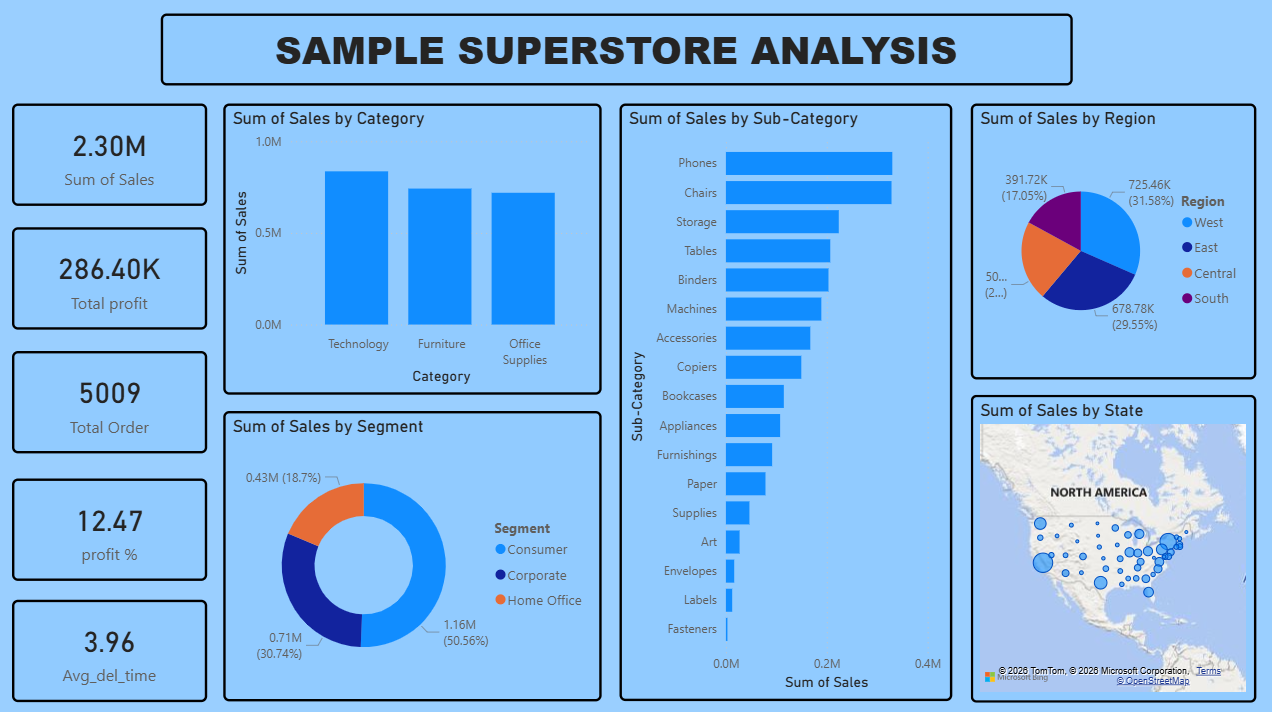

This screenshot's page, from the dashboard's own definition file:
{"tool":"powerbi","page":{"name":"Summary Page","canvas":[1280,720],"ordinal":0},"visuals":[{"type":"card","fields":{"Values":["Sum(Orders.Sales)"]},"box":[14.5,107.4,195.4,102.5],"z":0},{"type":"card","fields":{"Values":["Orders.Total_order"]},"box":[14.5,354.7,195.4,102.5],"z":1000},{"type":"card","fields":{"Values":["Orders.Total profit"]},"box":[14.5,231.6,195.4,102.5],"z":2000},{"type":"card","fields":{"Values":["Orders.profit %"]},"box":[14.5,482.6,195.4,102.5],"z":3000},{"type":"card","fields":{"Values":["Orders.Avg_del_time"]},"box":[14.5,603.2,195.4,102.5],"z":4000},{"type":"columnChart","fields":{"Y":["Sum(Orders.Sales)"],"Category":["Orders.Category"]},"box":[226.2,107.5,378.8,291.2],"z":5000},{"type":"clusteredBarChart","fields":{"Category":["Orders.Sub-Category"],"Y":["Sum(Orders.Sales)"]},"box":[622.5,107.5,332.5,597.5],"z":6000},{"type":"pieChart","fields":{"Y":["Sum(Orders.Sales)"],"Category":["Orders.Region"]},"box":[973.6,107.4,285.9,276.3],"z":7000},{"type":"donutChart","fields":{"Y":["Sum(Orders.Sales)"],"Category":["Orders.Segment"]},"box":[226.2,415,378.8,290],"z":8000},{"type":"textbox","box":[164.1,18.1,912.1,72.4],"z":9000},{"type":"map","fields":{"Size":["Sum(Orders.Sales)"],"Category":["Orders.State"]},"box":[973.6,398.1,285.9,307.6],"z":10000}]}

Visuals, with their boxes in screenshot pixels (x1, y1, x2, y2), scaled from the page's 1280x720 canvas onto the 1272x712 screenshot:
card - Sum(Orders.Sales): (x1=14, y1=106, x2=209, y2=208)
card - Orders.Total_order: (x1=14, y1=351, x2=209, y2=452)
card - Orders.Total profit: (x1=14, y1=229, x2=209, y2=330)
card - Orders.profit %: (x1=14, y1=477, x2=209, y2=579)
card - Orders.Avg_del_time: (x1=14, y1=596, x2=209, y2=698)
columnChart - Sum(Orders.Sales) x Orders.Category: (x1=225, y1=106, x2=601, y2=394)
clusteredBarChart - Orders.Sub-Category x Sum(Orders.Sales): (x1=619, y1=106, x2=949, y2=697)
pieChart - Sum(Orders.Sales) x Orders.Region: (x1=968, y1=106, x2=1252, y2=379)
donutChart - Sum(Orders.Sales) x Orders.Segment: (x1=225, y1=410, x2=601, y2=697)
textbox: (x1=163, y1=18, x2=1069, y2=89)
map - Sum(Orders.Sales) x Orders.State: (x1=968, y1=394, x2=1252, y2=698)
